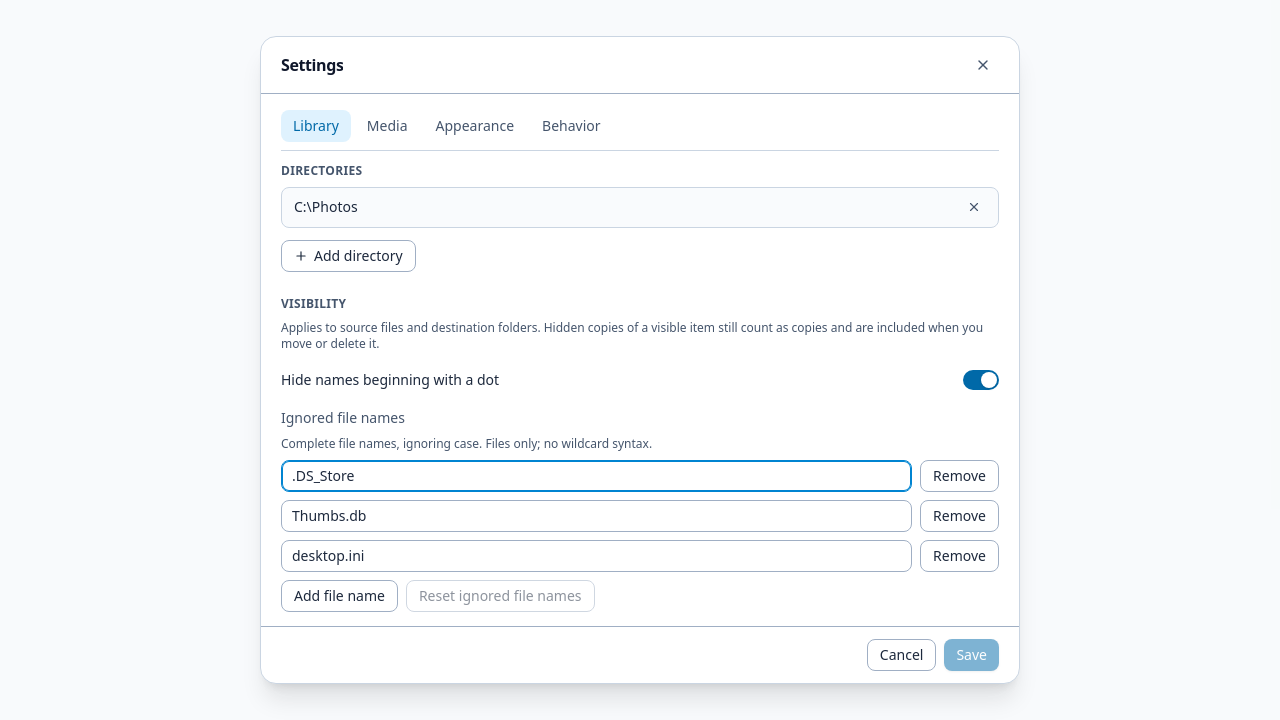
it: Settings categories › renders each screen row with position before name
Click the tab "Appearance": (475, 126) 424,110 -> 526,142
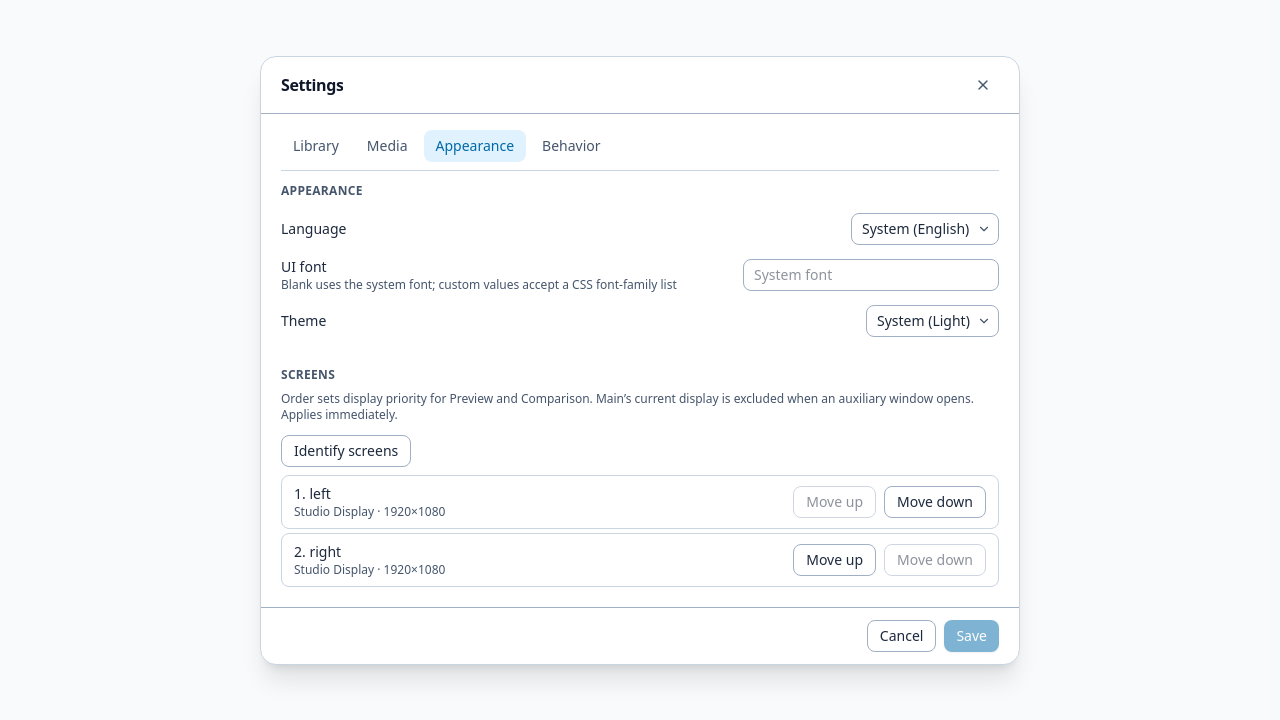
Now the button "Move down" in the row of "1. left" is shown, box 884,486 -> 986,518
Now the text "1. left" is shown, box 294,484 -> 331,502
Now the text "Studio Display · 1920×1080" below "1. left" is shown, box 294,502 -> 445,520
